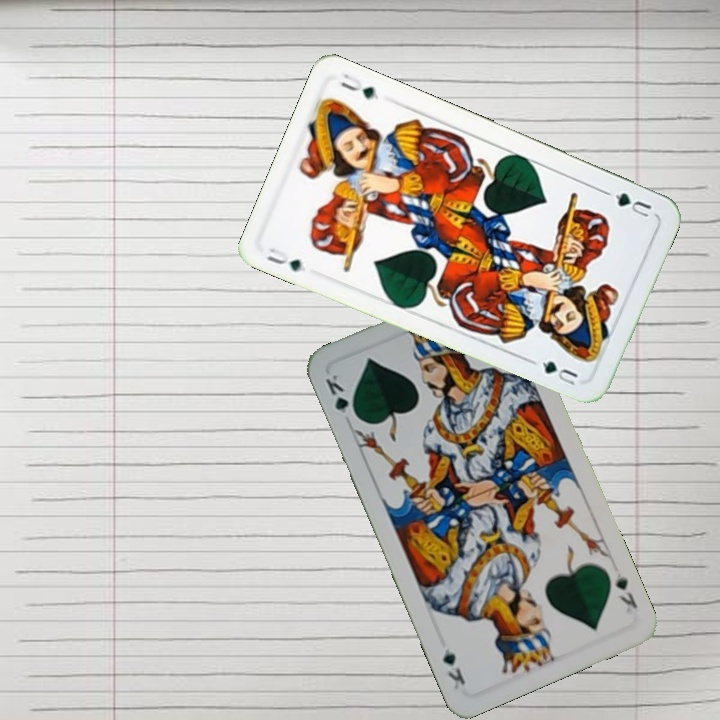GK: (321, 370, 360, 422), (609, 562, 640, 616)
GU: (611, 188, 654, 220), (261, 243, 304, 274)
